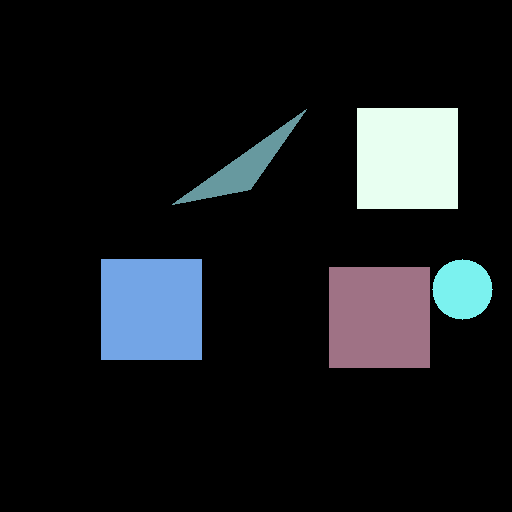circle: (432, 259, 492, 319)
square: (329, 267, 429, 367), (101, 259, 201, 359), (357, 108, 457, 208)
triangle: (172, 109, 306, 204)
